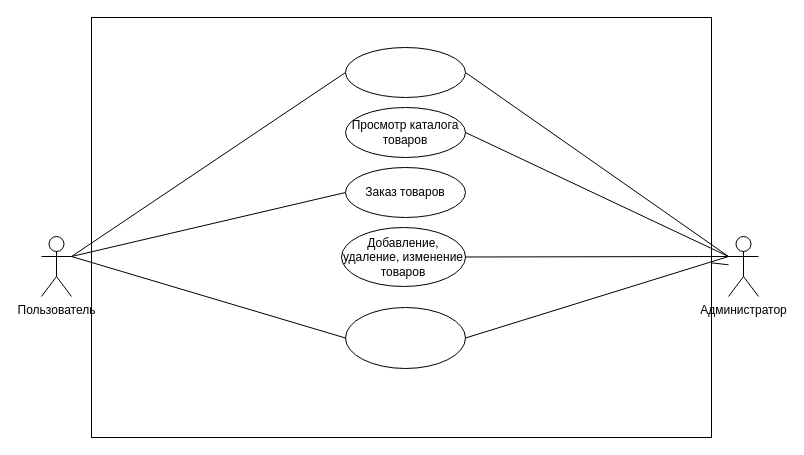
This 804x455 diagram has some shape labels left out. Here are the shapes that lost their labels. From the top down, the centre of each, then its label:
pixel 405 72: Регистрация и авторизация
pixel 405 337: Поиск/фильтрация товаров
